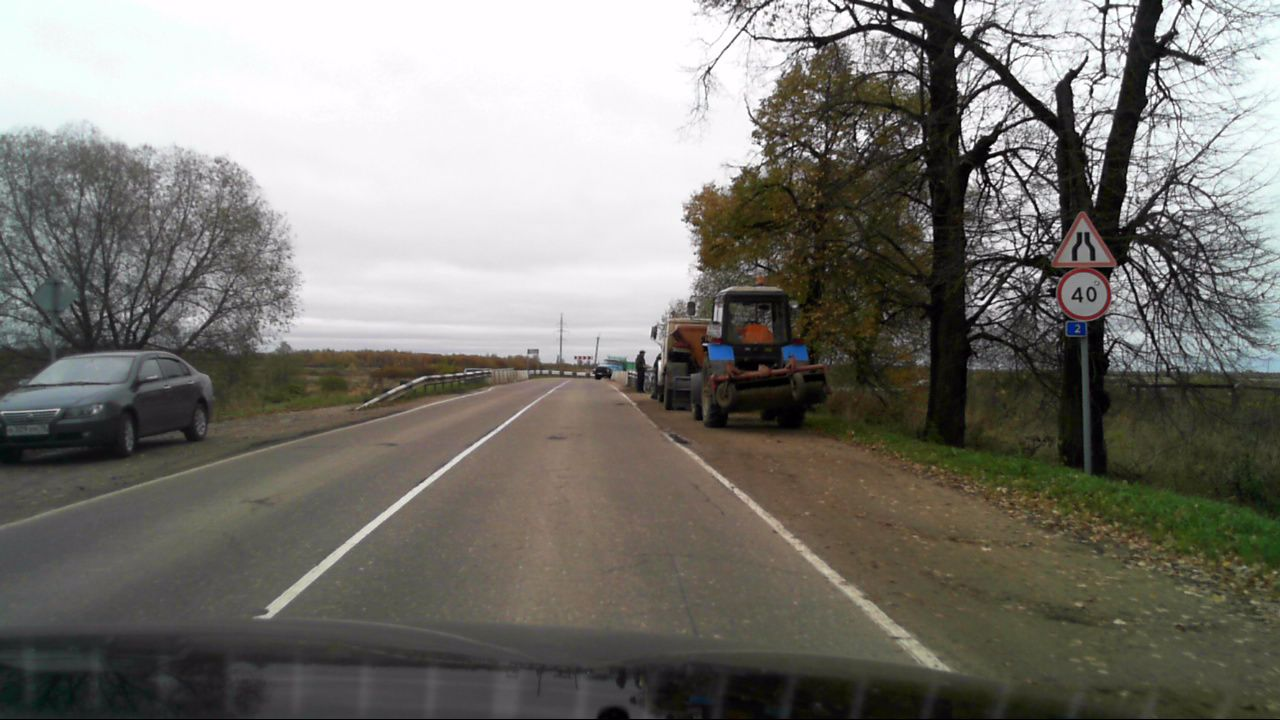speed_warning_40: (1055, 270, 1110, 320)
